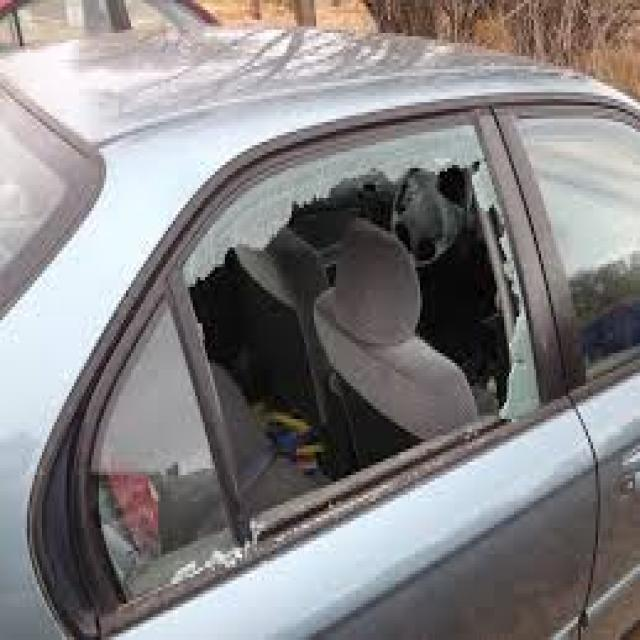damaged-window: (170, 110, 560, 526)
